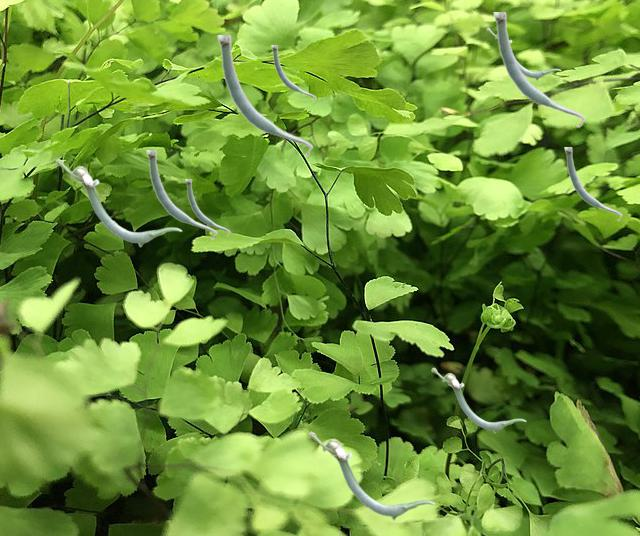french_bean: (217, 35, 312, 156), (308, 431, 434, 519), (55, 158, 181, 246), (493, 12, 584, 127), (146, 150, 216, 239), (431, 367, 525, 432), (564, 147, 621, 220), (486, 27, 560, 79), (271, 45, 315, 101), (185, 179, 229, 235)
